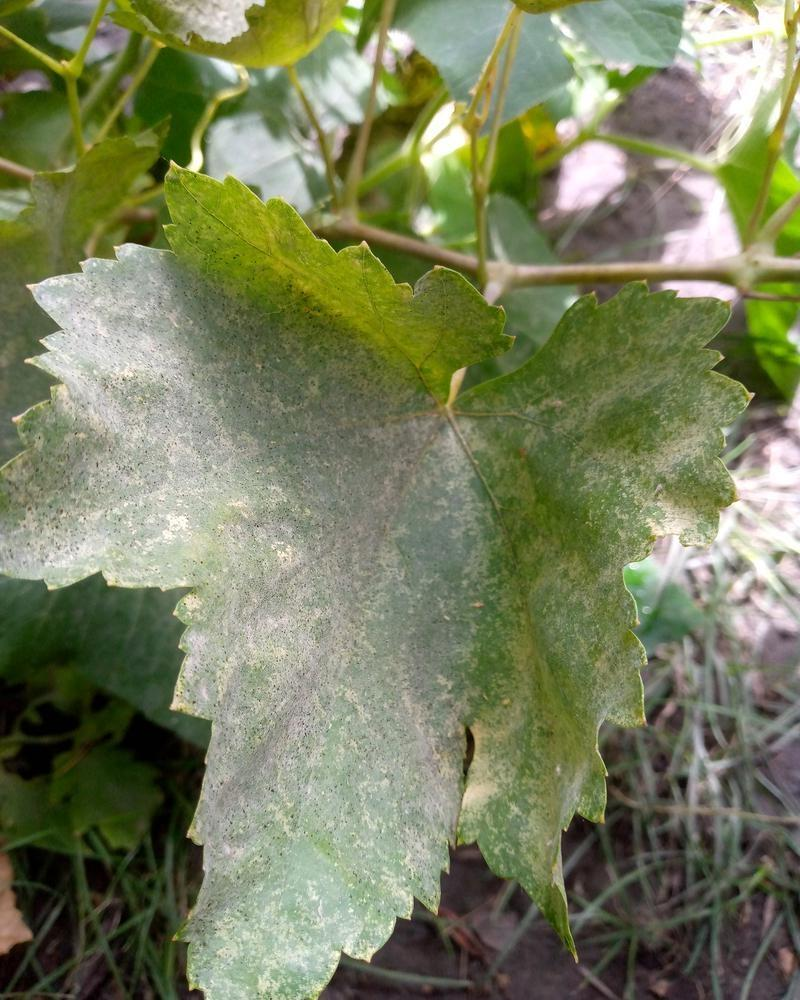Powdery-Mildew: (56, 280, 204, 507), (580, 317, 735, 515), (211, 803, 353, 983), (480, 682, 590, 870), (179, 493, 303, 634), (429, 423, 508, 502), (24, 511, 103, 590), (339, 535, 418, 614)
